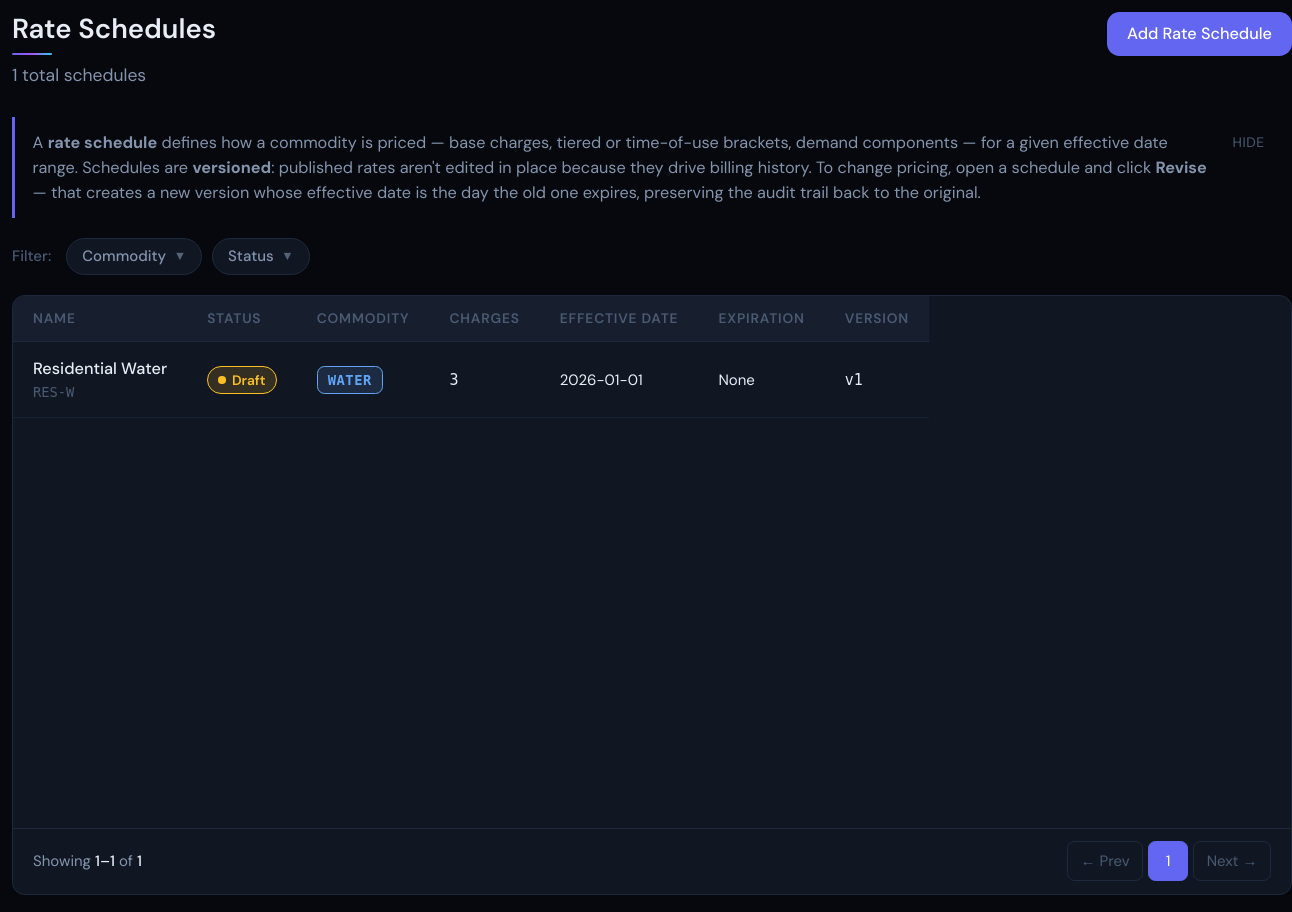
Test: Rate schedules list filter › offers the lifecycle states, not Active and Inactive
Check: the text "Draft" is shown, box [207, 366, 277, 394]
Click the button "Status ▼".
click(261, 256)  # box [212, 238, 310, 275]
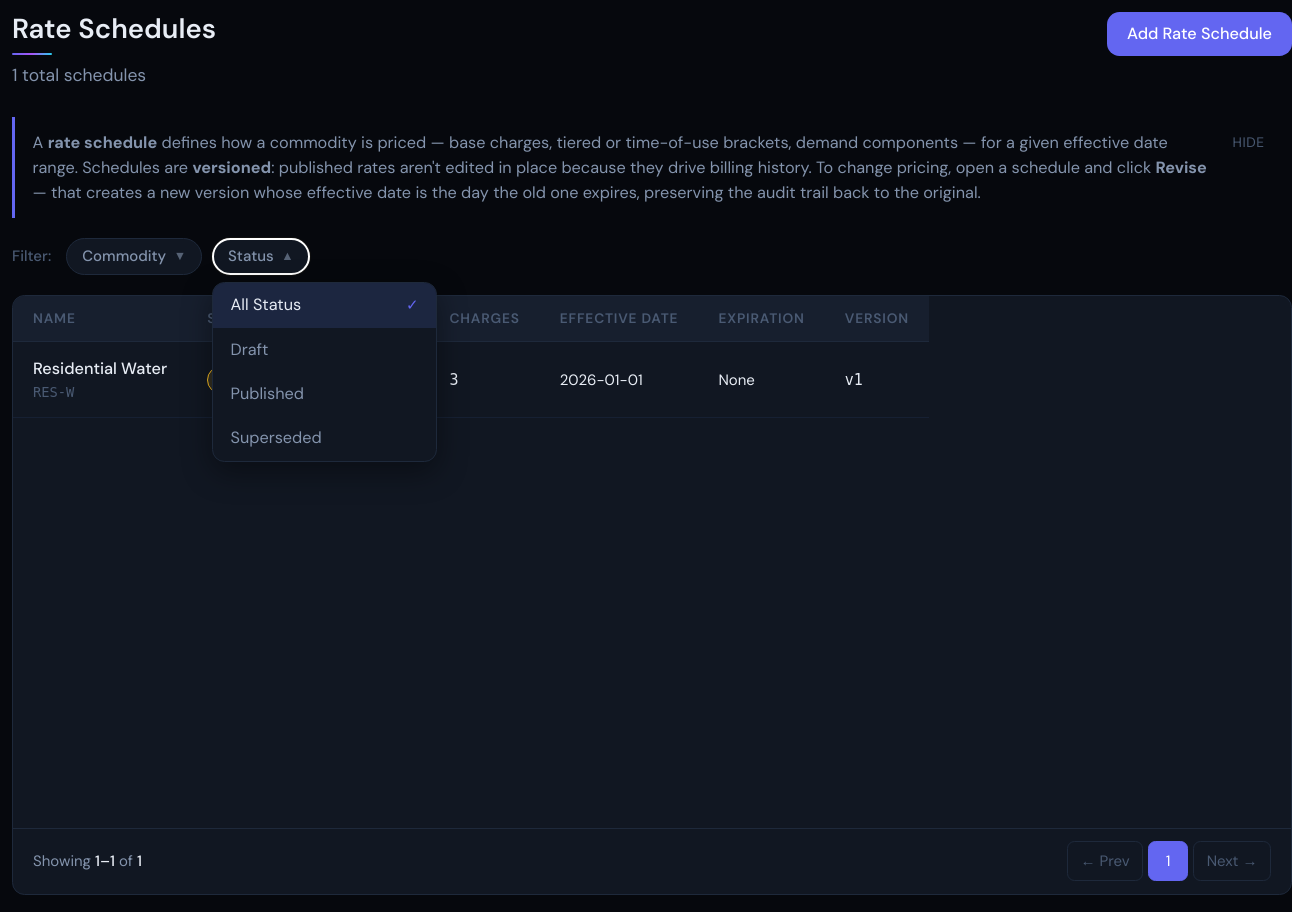
Check: the text "Draft" is shown, box [231, 338, 268, 362]
Check: the text "Published" is shown, box [231, 382, 304, 406]
Check: the text "Superseded" is shown, box [231, 426, 322, 451]
